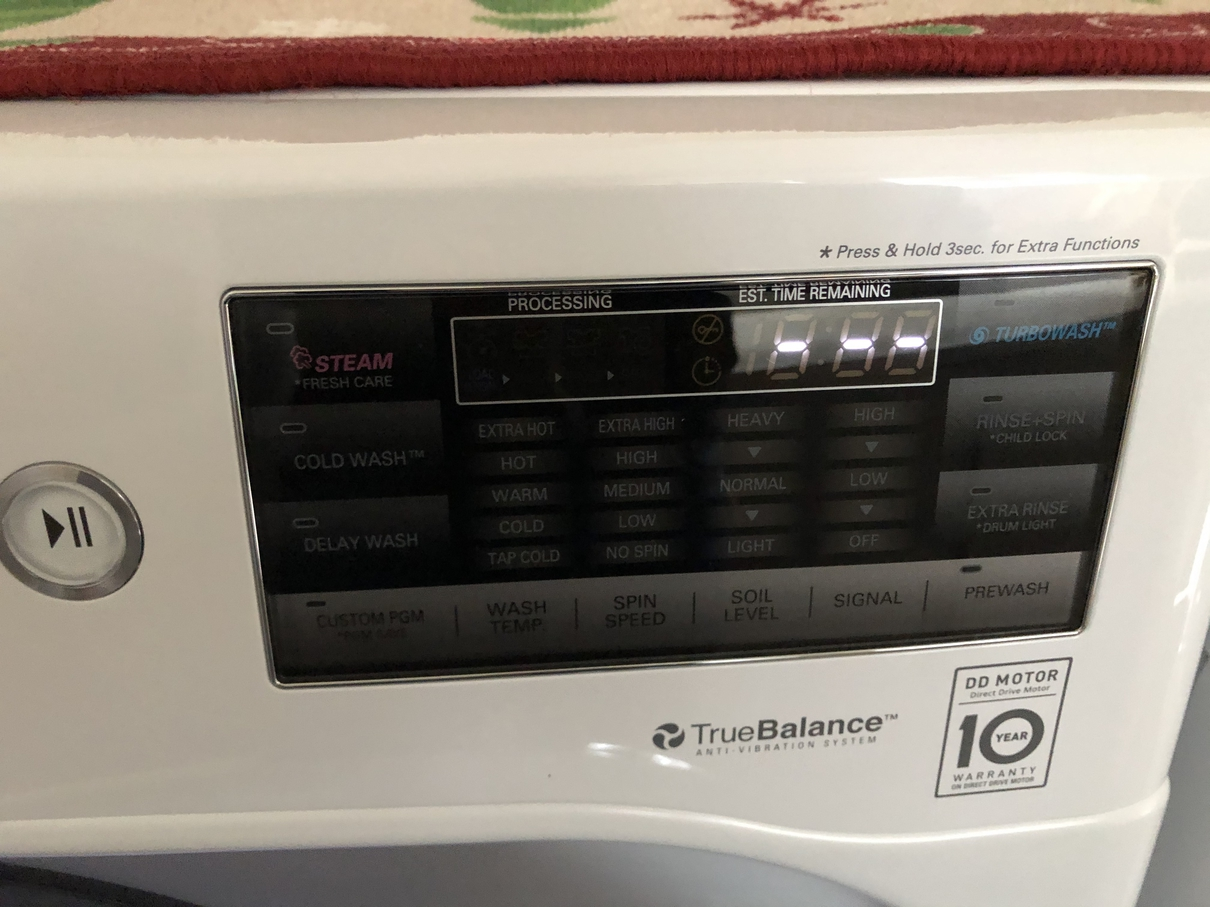status: (443, 274, 949, 414)
